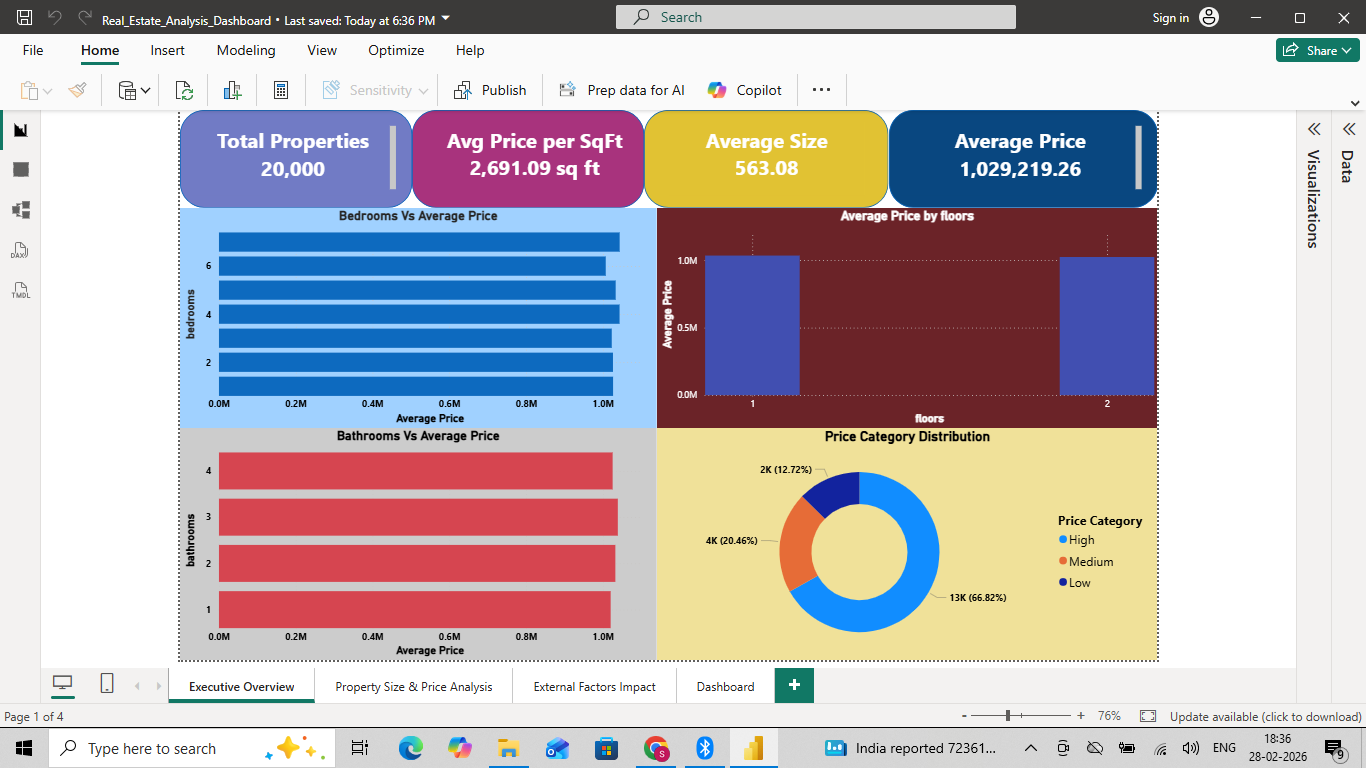

Layout of this report page (visuals, bound fields, positions):
{"tool":"powerbi","page":{"name":"Executive Overview","canvas":[1280,720],"ordinal":0},"visuals":[{"type":"shape","box":[0,0,304,128],"z":1000},{"type":"shape","box":[304,0,304,128],"z":2000},{"type":"shape","box":[608,0,320,128],"z":3000},{"type":"shape","box":[928,0,352,128],"z":4000},{"type":"textbox","box":[16,16,272,96],"z":6000},{"type":"textbox","box":[944,16,320,96],"z":7000},{"type":"textbox","box":[336,16,256,96],"z":8000},{"type":"textbox","box":[640,16,256,96],"z":9000},{"type":"barChart","title":"Bedrooms Vs Average Price","fields":{"Category":["RealEstate.bedrooms"],"Y":["RealEstate.Average Price"]},"box":[0,128,624,288],"z":10000},{"type":"barChart","title":"Bathrooms Vs Average Price","fields":{"Category":["RealEstate.bathrooms"],"Y":["RealEstate.Average Price"]},"box":[0,416,624,304],"z":11000},{"type":"columnChart","fields":{"Category":["RealEstate.floors"],"Y":["RealEstate.Average Price"]},"box":[624,128,656,288],"z":12000},{"type":"donutChart","title":"Price Category Distribution","fields":{"Category":["RealEstate.Price Category"],"Y":["RealEstate.Total Properties"]},"box":[624,416,656,304],"z":13000}]}

Visuals, with their boxes on the page's 1280x720 design canvas (x1, y1, x2, y2). These are canvas units, not pixel positions in the 1366x768 screenshot, which may show the page scaled, cropped or inside an application window:
shape: 0,0,304,128
shape: 304,0,608,128
shape: 608,0,928,128
shape: 928,0,1280,128
textbox: 16,16,288,112
textbox: 944,16,1264,112
textbox: 336,16,592,112
textbox: 640,16,896,112
"Bedrooms Vs Average Price" barChart: 0,128,624,416
"Bathrooms Vs Average Price" barChart: 0,416,624,720
columnChart - RealEstate.floors x RealEstate.Average Price: 624,128,1280,416
"Price Category Distribution" donutChart: 624,416,1280,720
